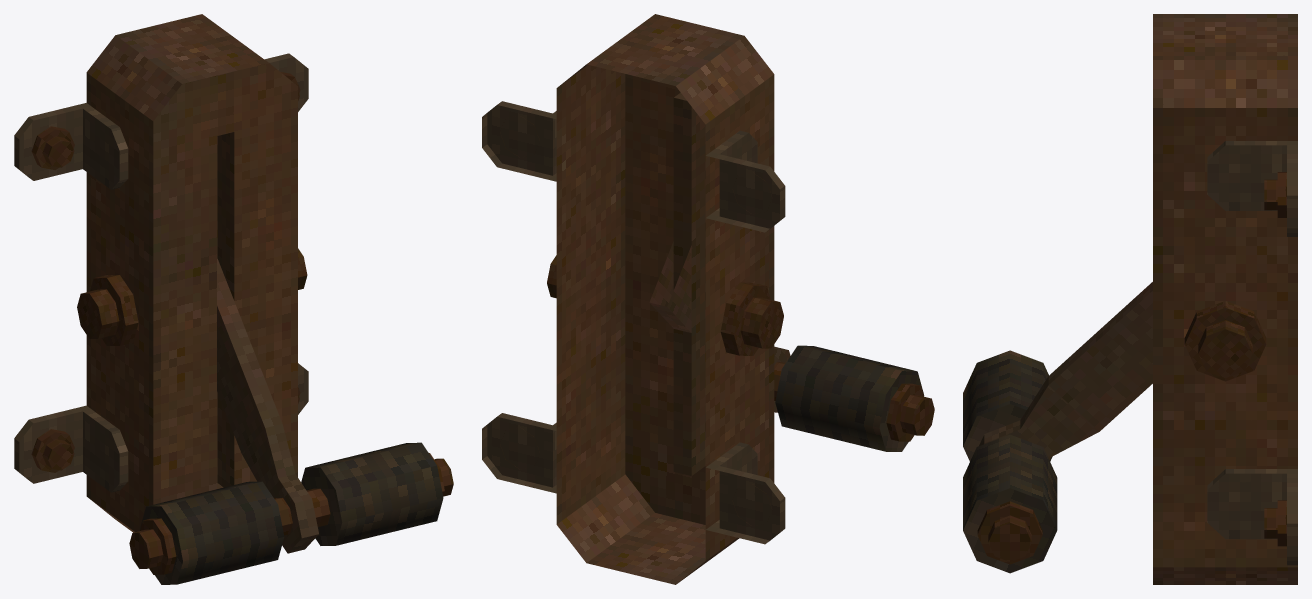
File: lever_etx_7.glb
The picture shows the model from 3 angles, left to right: view 1: azimuth 30°, elevation 25°; view 2: azimuth 150°, elevation 25°; view 3: azimuth 270°, elevation 25°; orthographic projection. The views are drawn at different scales.
Visible parts, largest first — view 1: lever_etx_7, lever_etx_7_child; view 2: lever_etx_7, lever_etx_7_child; view 3: lever_etx_7, lever_etx_7_child.
Part boxes in pixels (x1=…): lever_etx_7: x1=14, y1=14, x2=308, y2=532; lever_etx_7_child: x1=129, y1=258, x2=453, y2=584; lever_etx_7: x1=482, y1=14, x2=785, y2=584; lever_etx_7_child: x1=649, y1=241, x2=934, y2=451; lever_etx_7: x1=1153, y1=14, x2=1297, y2=584; lever_etx_7_child: x1=963, y1=282, x2=1152, y2=573.
Bounding box in the file's own units: 0.1894 × 0.288 × 0.1665.
1 material, 1 textured.
